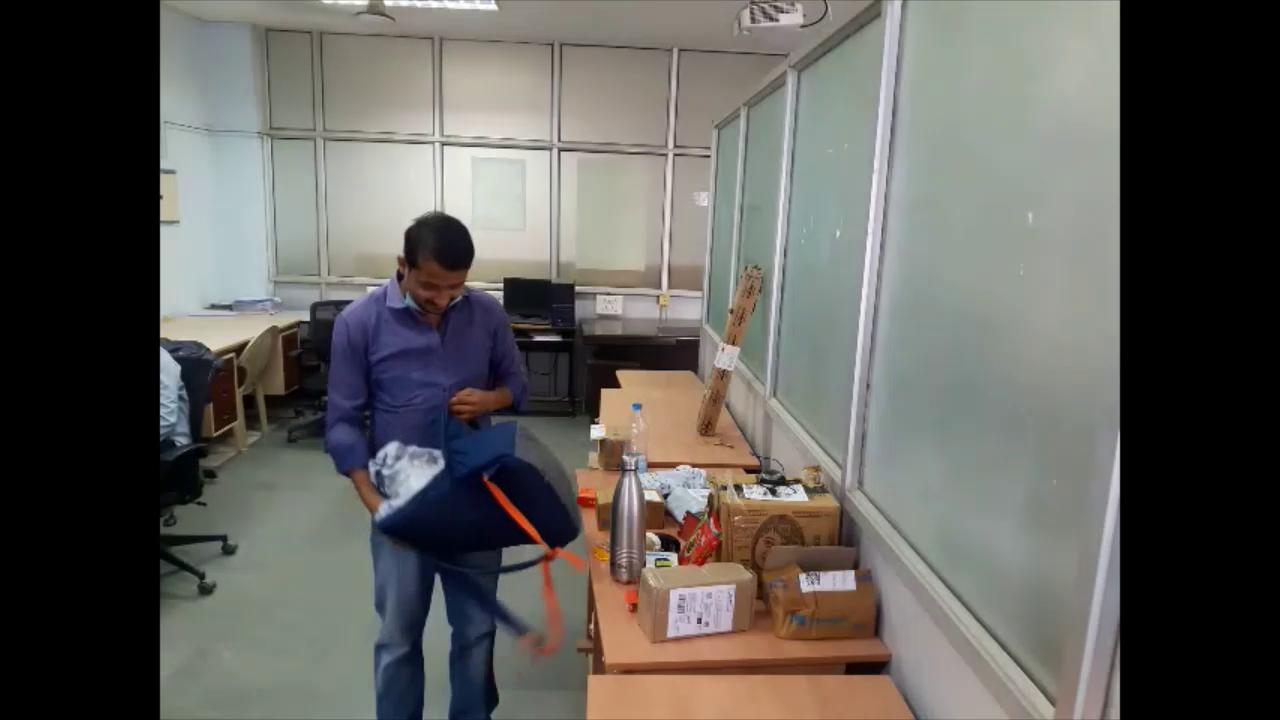shoplifting: (315, 195, 589, 717)
